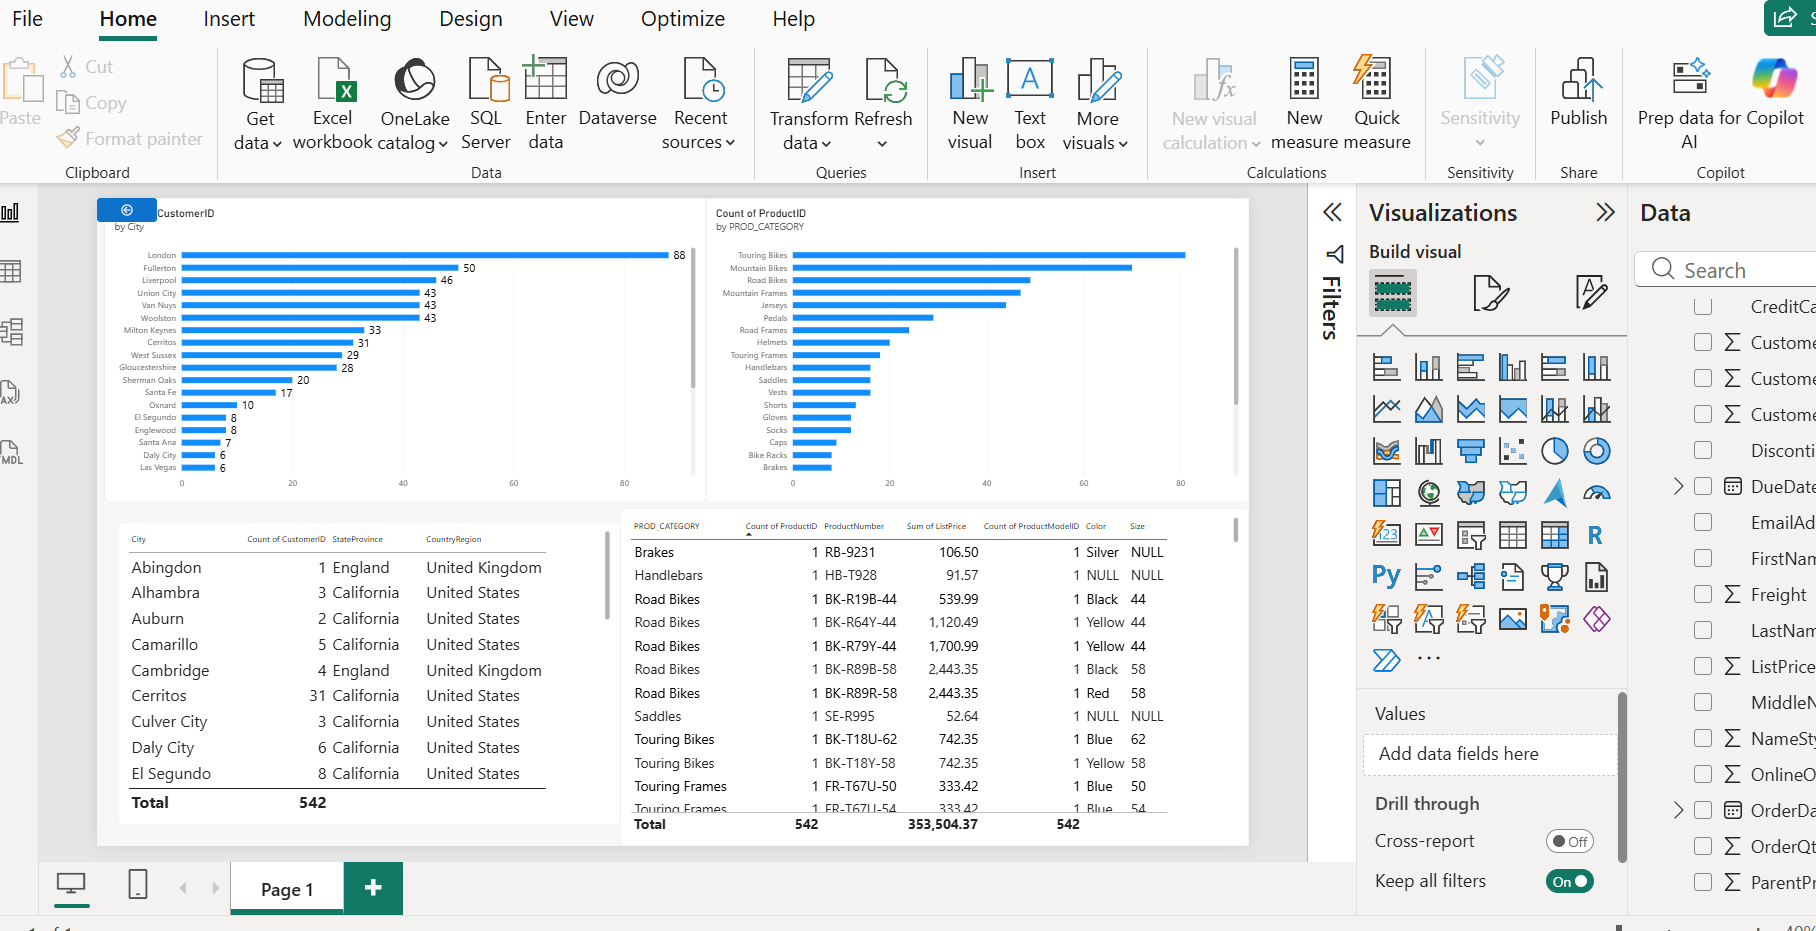

Layout of this report page (visuals, bound fields, positions):
{"tool":"powerbi","page":{"name":"Page 1","canvas":[1920,1080],"ordinal":0},"visuals":[{"type":"clusteredBarChart","fields":{"Category":["Table 1 (Sheet1).City"],"Y":["CountNonNull(Table 1 (Sheet1).CustomerID)"]},"box":[11.3,0,618,507.4],"z":0},{"type":"tableEx","fields":{"Values":["Table 1 (Sheet1).City","CountNonNull(Table 1 (Sheet1).CustomerID)","Table 1 (Sheet1).StateProvince","Table 1 (Sheet1).CountryRegion"]},"box":[11.9,517.7,618,505.8],"z":1},{"type":"actionButton","box":[0,0,100,40],"z":2},{"type":"clusteredBarChart","fields":{"Category":["Table 1 (Sheet1).PROD_CATEGORY"],"Y":["CountNonNull(Table 1 (Sheet1).ProductID)"]},"box":[639,0,618,507],"z":3},{"type":"tableEx","fields":{"Values":["Table 1 (Sheet1).PROD_CATEGORY","CountNonNull(Table 1 (Sheet1).ProductID)","Table 1 (Sheet1).ProductNumber","Sum(Table 1 (Sheet1).ListPrice)","CountNonNull(Table 1 (Sheet1).ProductModelID)","Table 1 (Sheet1).Color","Table 1 (Sheet1).Size"]},"box":[640,518,722,526],"z":4}]}

Visuals, with their boxes on the page's 1920x1080 design canvas (x1, y1, x2, y2). These are canvas units, not pixel positions in the 1816x931 screenshot, which may show the page scaled, cropped or inside an application window:
clusteredBarChart - Table 1 (Sheet1).City x CountNonNull(Table 1 (Sheet1).CustomerID): [left=11, top=0, right=629, bottom=507]
tableEx - Table 1 (Sheet1).City x CountNonNull(Table 1 (Sheet1).CustomerID): [left=12, top=518, right=630, bottom=1024]
actionButton: [left=0, top=0, right=100, bottom=40]
clusteredBarChart - Table 1 (Sheet1).PROD_CATEGORY x CountNonNull(Table 1 (Sheet1).ProductID): [left=639, top=0, right=1257, bottom=507]
tableEx - Table 1 (Sheet1).PROD_CATEGORY x CountNonNull(Table 1 (Sheet1).ProductID): [left=640, top=518, right=1362, bottom=1044]
